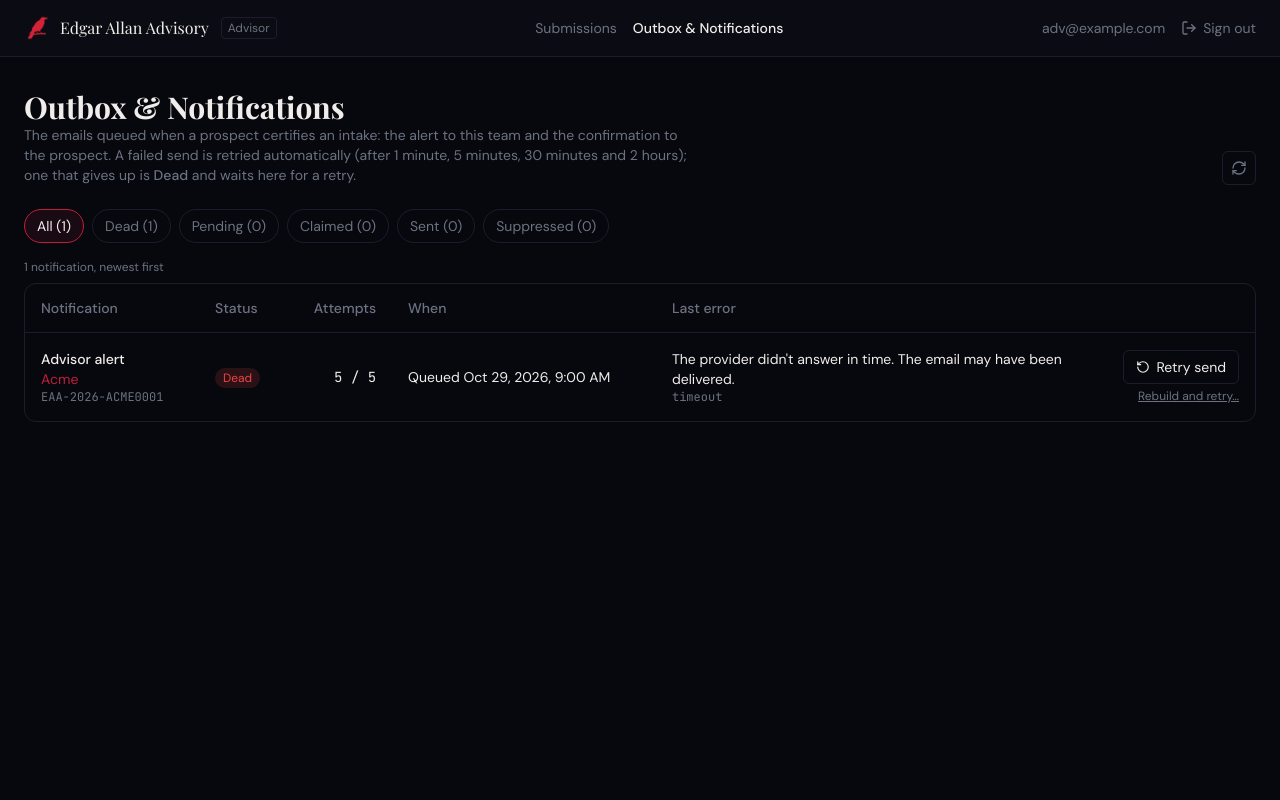
Test: AdvisorOutboxPage › retrying › an event with an email already written › offers a rebuild as a separate, confirmed step that says what it risks
The width and height of the screenshot is (1280, 800).
What coordinates should you click on to do the following:
click the button "Rebuild and retry…"
I would click on:
 (1188, 396)
Its box is [1138,388,1239,404].
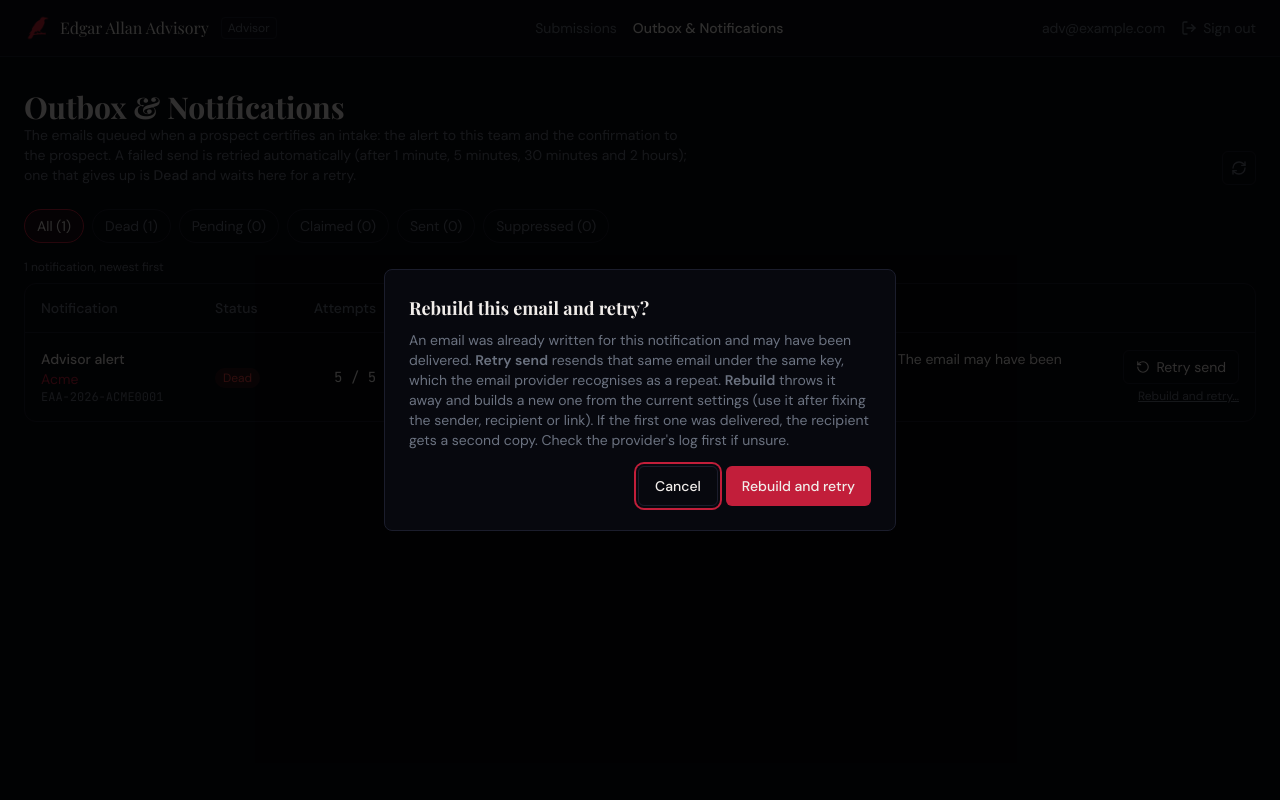
Result: the dialog shows "may have been delivered" at [409,331,851,369]
Result: the dialog shows "second copy" at [409,371,869,449]
What coordinates should you click on to do the following:
click the button "Rebuild and retry"
I would click on:
 (798, 486)
Its box is [726,466,871,506].
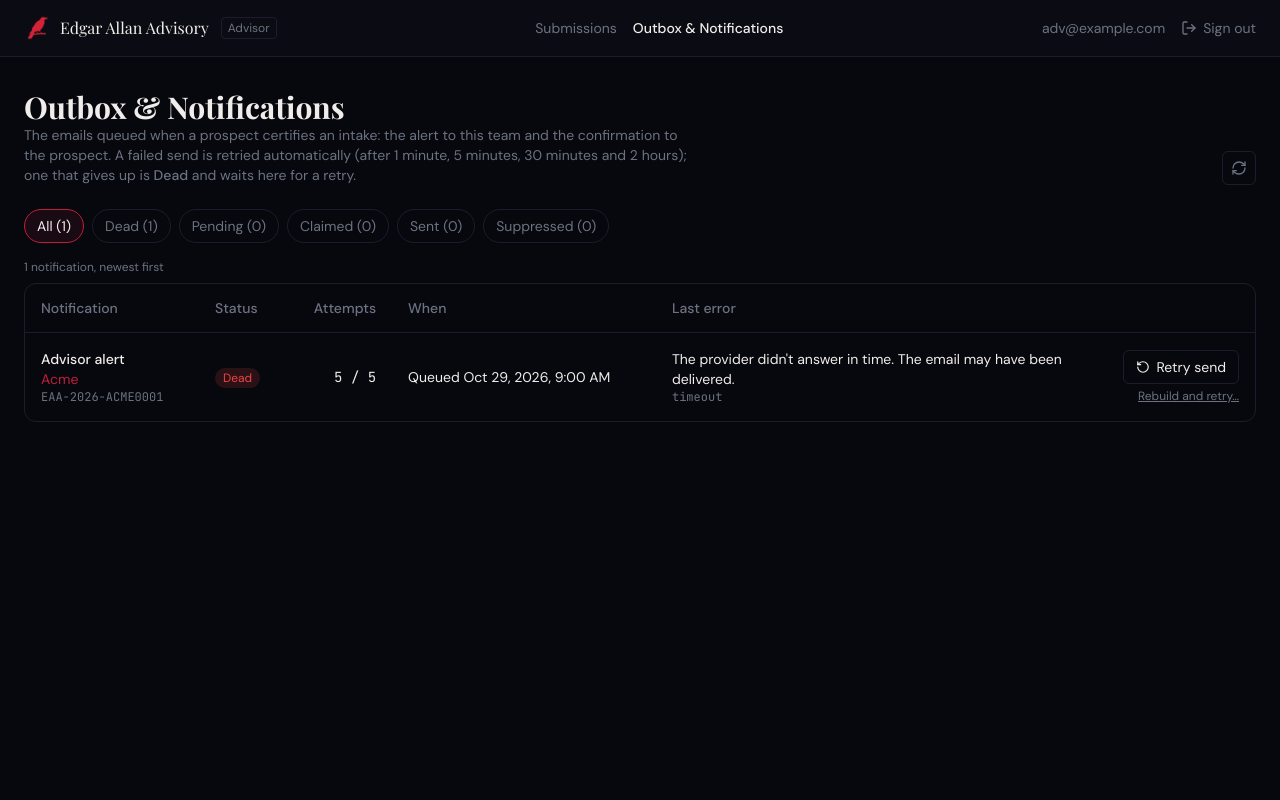
Result: the dialog is gone
